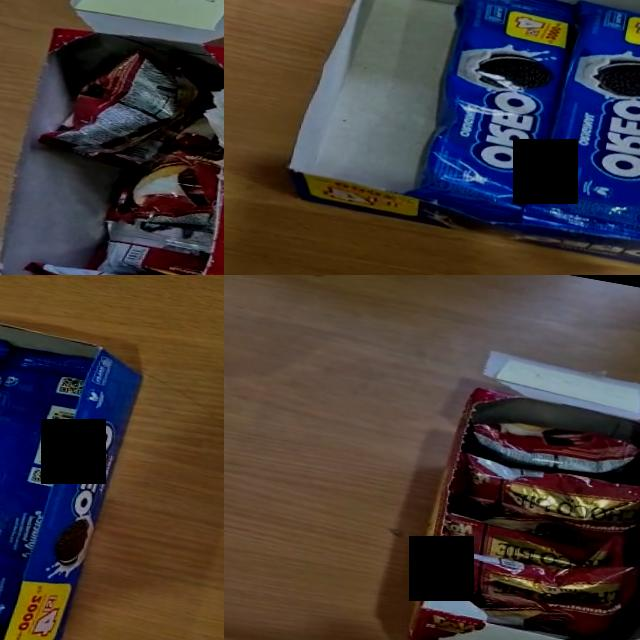Chocopie: (34, 36, 212, 180), (426, 531, 640, 640), (446, 450, 640, 557), (103, 100, 224, 240), (439, 505, 631, 581), (465, 411, 640, 484), (86, 208, 213, 275), (15, 257, 196, 275)
Oreo: (409, 0, 574, 222), (517, 0, 640, 249), (0, 338, 93, 640)
